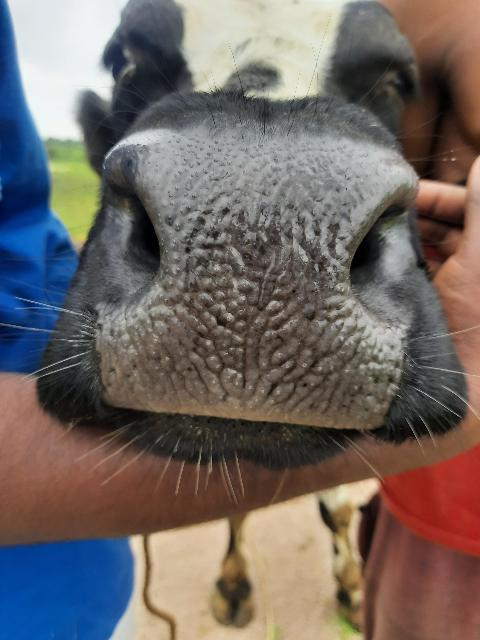Muzzle: (109, 141, 383, 427)
